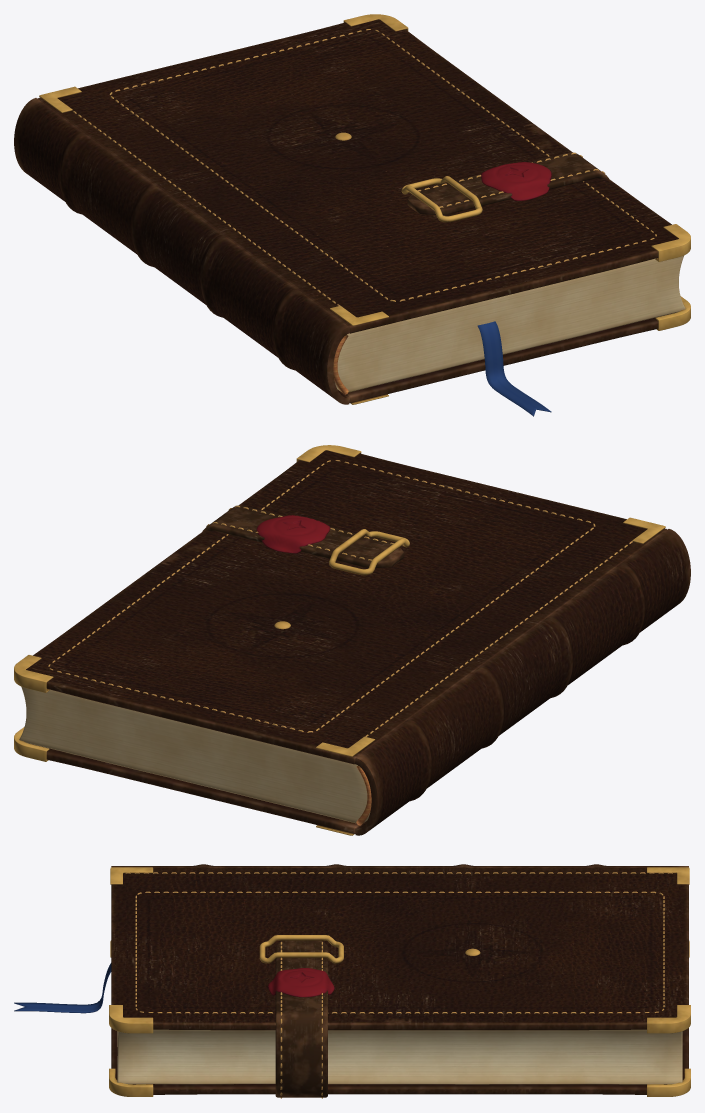
The model's file is adventurers_journal.glb.
The picture shows the model from 3 angles, top to bottom: view 1: azimuth 30°, elevation 25°; view 2: azimuth 150°, elevation 25°; view 3: azimuth 270°, elevation 25°; orthographic projection. The views are drawn at different scales.
Parts seen in each view (by area): view 1: Front_Cover, Spine, Pages, Strap, Back_Cover, Metal_Corners, Stitching, Wax_Seal, Ribbon_Bookmark, Clasp_Buckle; view 2: Front_Cover, Spine, Pages, Back_Cover, Strap, Metal_Corners, Stitching, Wax_Seal, Clasp_Buckle; view 3: Front_Cover, Pages, Strap, Back_Cover, Metal_Corners, Stitching, Wax_Seal, Spine, Clasp_Buckle, Ribbon_Bookmark.
Boxes of the visible parts, <box> form: Front_Cover: <box>37,19,678,333</box>; Spine: <box>14,98,349,404</box>; Pages: <box>334,255,685,392</box>; Strap: <box>407,152,608,215</box>; Back_Cover: <box>346,312,675,403</box>; Metal_Corners: <box>39,14,690,404</box>; Stitching: <box>73,29,656,305</box>; Wax_Seal: <box>481,162,551,200</box>; Ribbon_Bookmark: <box>477,321,551,416</box>; Clasp_Buckle: <box>401,176,482,222</box>; Front_Cover: <box>26,450,666,764</box>; Spine: <box>355,529,690,835</box>; Pages: <box>19,686,370,823</box>; Back_Cover: <box>29,743,358,833</box>; Strap: <box>202,505,404,567</box>; Metal_Corners: <box>14,445,665,835</box>; Stitching: <box>48,460,632,736</box>; Wax_Seal: <box>256,515,330,553</box>; Clasp_Buckle: <box>329,529,409,575</box>; Front_Cover: <box>111,868,688,1030</box>; Pages: <box>117,1029,682,1084</box>; Strap: <box>275,940,327,1097</box>; Back_Cover: <box>111,1028,688,1094</box>; Metal_Corners: <box>109,867,690,1096</box>; Stitching: <box>125,872,672,1098</box>; Wax_Seal: <box>268,968,334,997</box>; Spine: <box>111,864,688,867</box>; Clasp_Buckle: <box>259,935,343,963</box>; Ribbon_Bookmark: <box>14,963,111,1013</box>.
Bounding box in the file's own units: 0.1557 × 0.0383 × 0.2578.
Materials: 1 (1 with a texture image).
